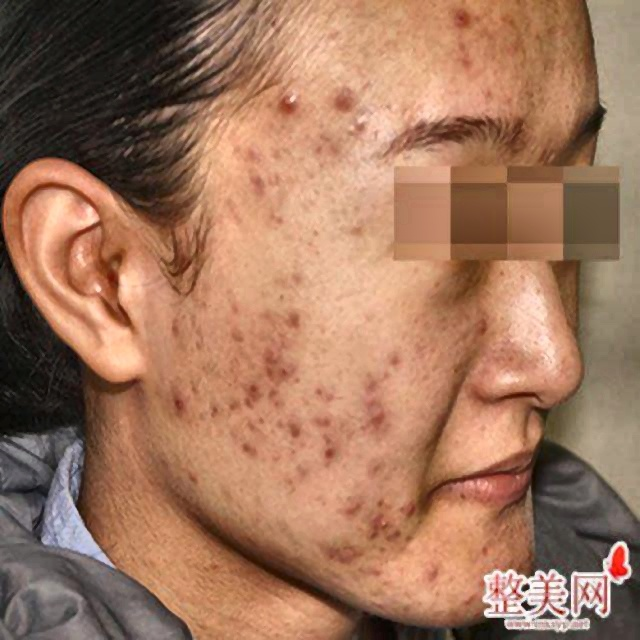papule: (272, 303, 312, 338), (273, 88, 307, 120), (335, 84, 366, 118), (305, 385, 338, 416), (307, 404, 339, 435), (452, 584, 488, 610), (461, 310, 491, 341), (308, 133, 336, 165), (373, 504, 398, 539), (242, 142, 271, 172), (355, 403, 385, 431), (176, 461, 203, 492), (449, 2, 475, 34), (218, 296, 250, 322), (241, 374, 266, 406), (233, 434, 260, 461), (353, 372, 380, 398), (336, 542, 362, 569), (312, 442, 337, 470), (169, 390, 189, 422), (282, 411, 300, 446), (454, 41, 475, 70), (416, 557, 442, 580), (393, 494, 416, 520), (202, 396, 225, 420), (251, 406, 271, 433), (247, 172, 271, 194), (260, 354, 276, 386), (274, 358, 298, 379), (255, 344, 279, 364), (344, 494, 358, 516)
